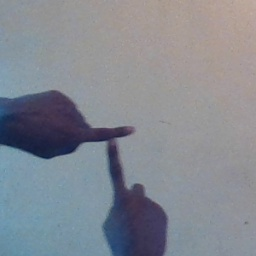T: (62, 96, 154, 214)
